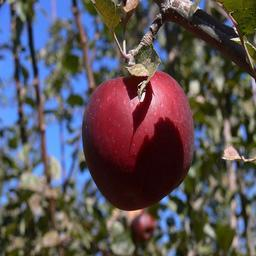apple: (81, 69, 195, 211)
